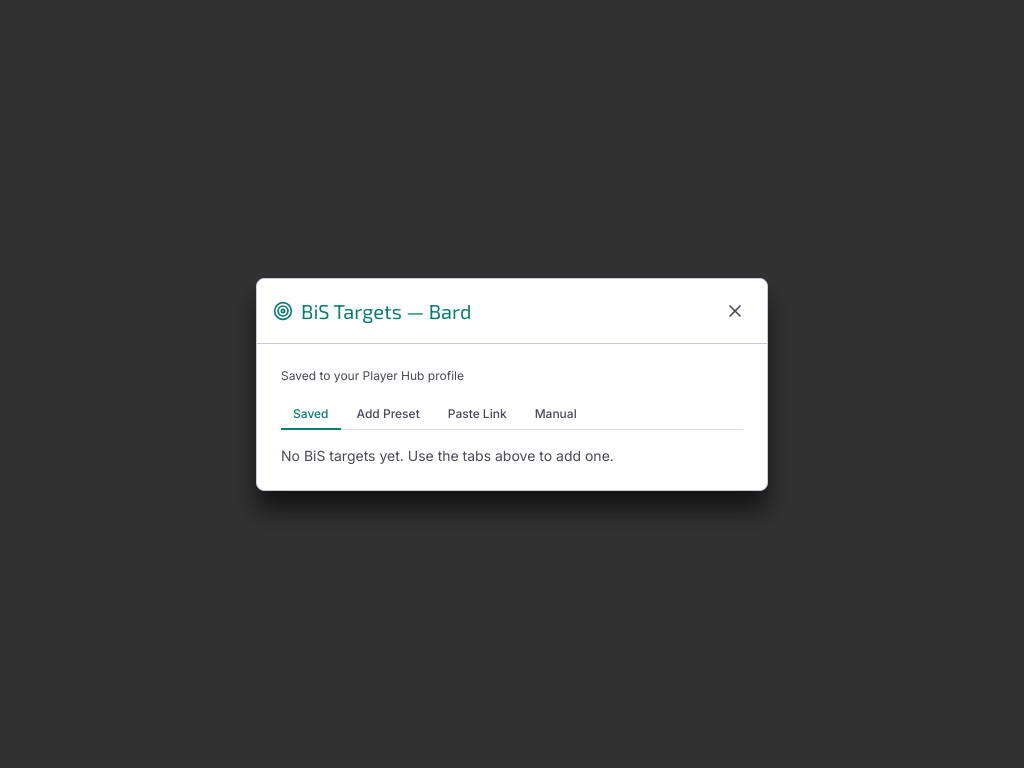
Test: ManageBiSModal › shows Manual tab and can open add form
Click the button "Manual": (556, 414) [523, 400, 589, 428]
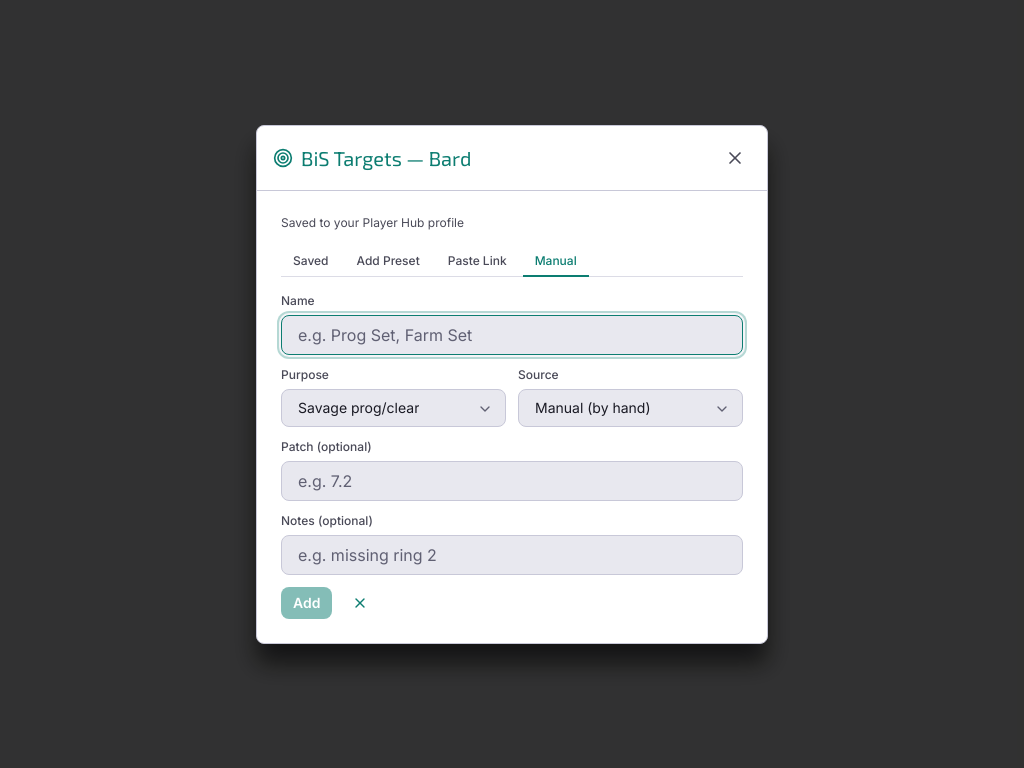
Expected: the field with test id "bis-name-input" is shown, [281, 314, 743, 354]
